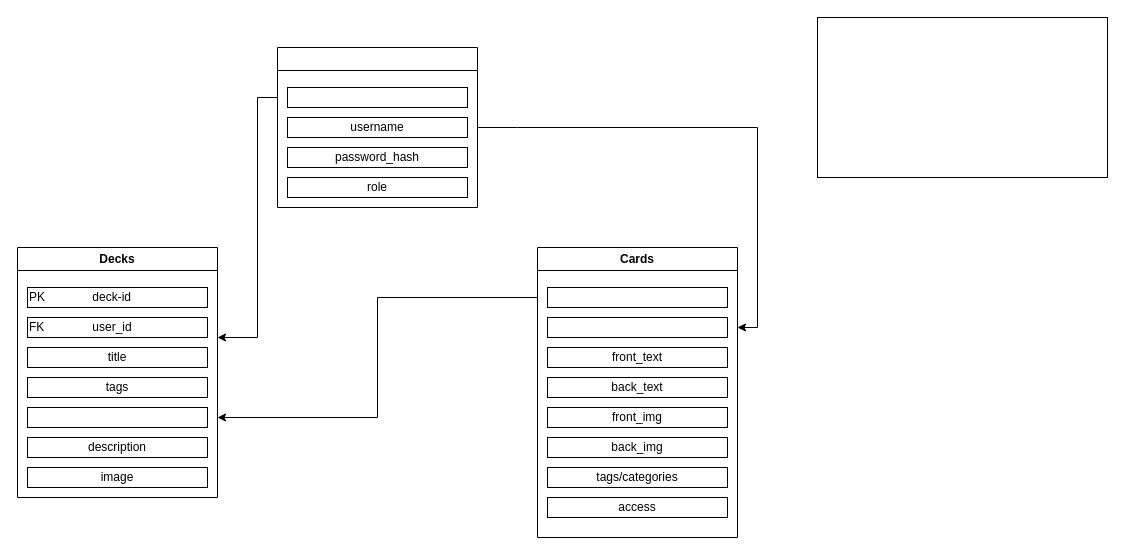
Some shapes in this 1125 by 555 pixel diagram are drawn without their labels. Here are the shapes that lost their labels. From the top down, the box of each, then its label:
(286, 86, 468, 108): PK user_id
(816, 16, 1108, 178): Users Decks Cards
(276, 46, 478, 208): Users
(546, 286, 728, 308): PK card_id
(546, 316, 728, 338): FK username
(26, 406, 208, 428): card-id
